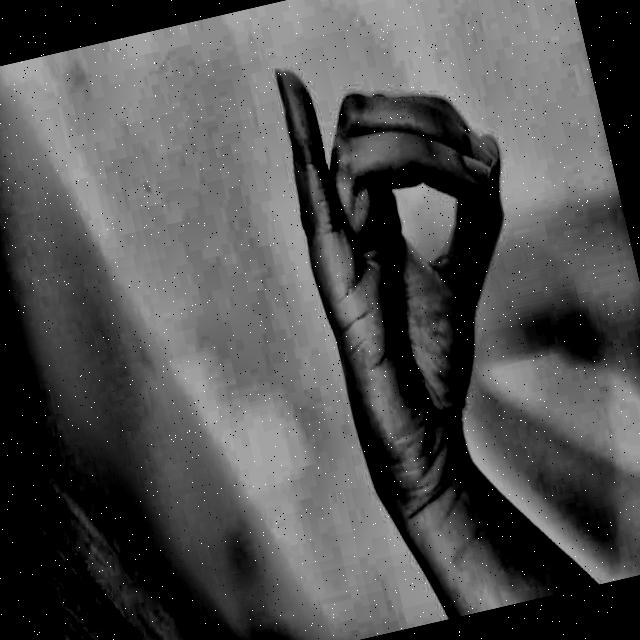Ou: (242, 0, 593, 536)
